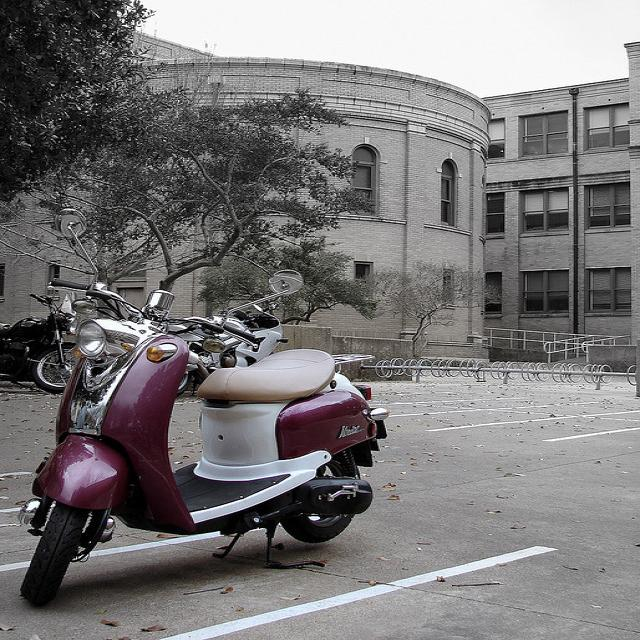motor: (16, 210, 386, 611), (169, 302, 290, 399), (0, 288, 81, 391)
